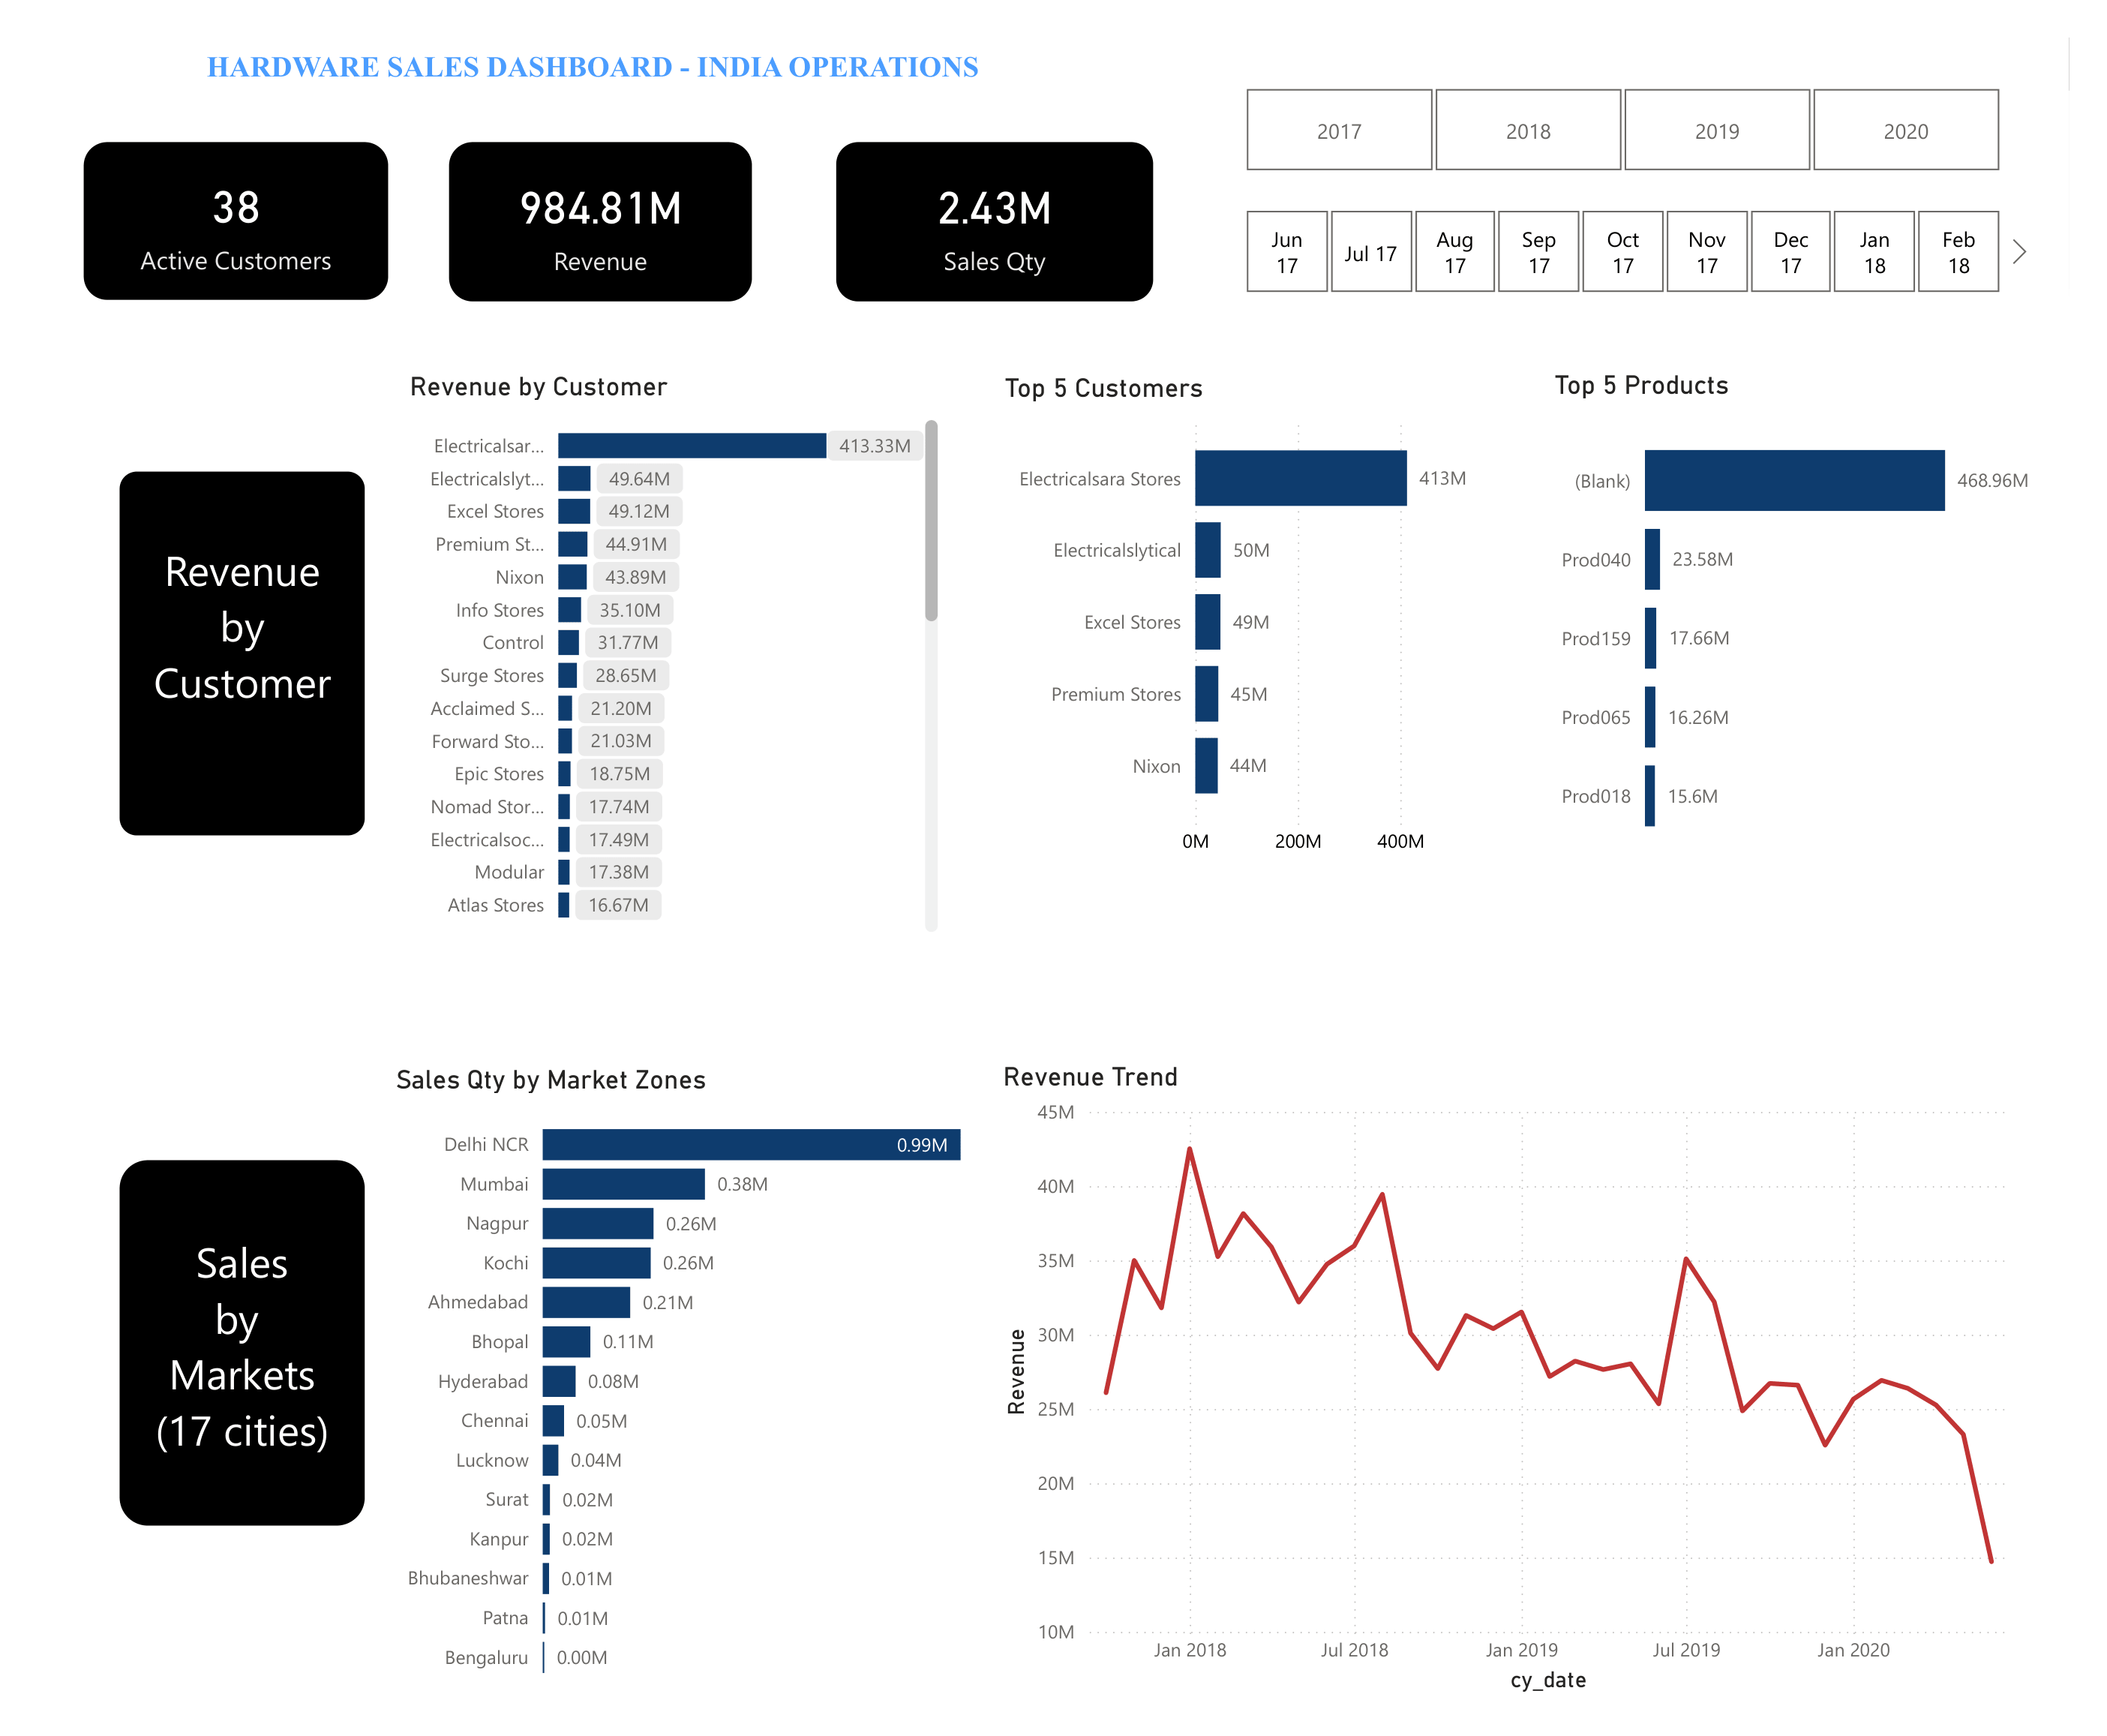

The dashboard page shown, as its layout file describes it:
{"tool":"powerbi","page":{"name":"Analysis","canvas":[1300,1063],"ordinal":0},"visuals":[{"type":"card","fields":{"Values":["Base Measures.Revenue"]},"box":[262.9,67.1,194.3,101.4],"z":0},{"type":"card","fields":{"Values":["Base Measures.Sales Qty"]},"box":[511.4,67.1,202.9,101.4],"z":1000},{"type":"clusteredBarChart","title":"Revenue by Customer","fields":{"Category":["customers.custmer_name"],"Y":["Base Measures.Revenue"]},"box":[232.9,213,348.4,364.7],"z":2000},{"type":"clusteredBarChart","title":"Sales Qty by Market Zones","fields":{"Y":["Base Measures.Sales Qty"],"Category":["markets.markets_name"]},"box":[223.9,656.8,408,406.2],"z":3000},{"type":"slicer","fields":{"Values":["date.cy_date"]},"box":[748,104,532,66],"z":4000},{"type":"textbox","box":[52.4,278,157.1,232.9],"z":5000},{"type":"textbox","box":[52.4,718.5,157.1,234.7],"z":6000},{"type":"textbox","box":[7.1,2.9,695.7,58.6],"z":7000},{"type":"clusteredBarChart","title":"Top 5 Customers","fields":{"Y":["Base Measures.Revenue"],"Category":["customers.custmer_name"]},"box":[613.7,213.7,339.2,319.6],"z":8000},{"type":"slicer","fields":{"Values":["date.year"]},"box":[748,26,532,66],"z":9000},{"type":"clusteredBarChart","title":"Top 5 Products","fields":{"Category":["products.product_code"],"Y":["Base Measures.Revenue"]},"box":[966,212,314,320],"z":10000},{"type":"lineChart","title":"Revenue Trend","fields":{"Y":["Base Measures.Revenue"],"Category":["date.cy_date"]},"box":[612.5,655,667.5,410],"z":11000},{"type":"card","fields":{"Values":["Base Measures.Active Customers"]},"box":[28.9,66.8,195,101.1],"z":12000}]}

Visuals, with their boxes on the page's 1300x1063 design canvas (x1, y1, x2, y2). These are canvas units, not pixel positions in the 2107x1736 screenshot, which may show the page scaled, cropped or inside an application window:
card - Base Measures.Revenue: bbox=(263, 67, 457, 168)
card - Base Measures.Sales Qty: bbox=(511, 67, 714, 168)
"Revenue by Customer" clusteredBarChart: bbox=(233, 213, 581, 578)
"Sales Qty by Market Zones" clusteredBarChart: bbox=(224, 657, 632, 1063)
slicer - date.cy_date: bbox=(748, 104, 1280, 170)
textbox: bbox=(52, 278, 210, 511)
textbox: bbox=(52, 718, 210, 953)
textbox: bbox=(7, 3, 703, 62)
"Top 5 Customers" clusteredBarChart: bbox=(614, 214, 953, 533)
slicer - date.year: bbox=(748, 26, 1280, 92)
"Top 5 Products" clusteredBarChart: bbox=(966, 212, 1280, 532)
"Revenue Trend" lineChart: bbox=(612, 655, 1280, 1065)
card - Base Measures.Active Customers: bbox=(29, 67, 224, 168)
